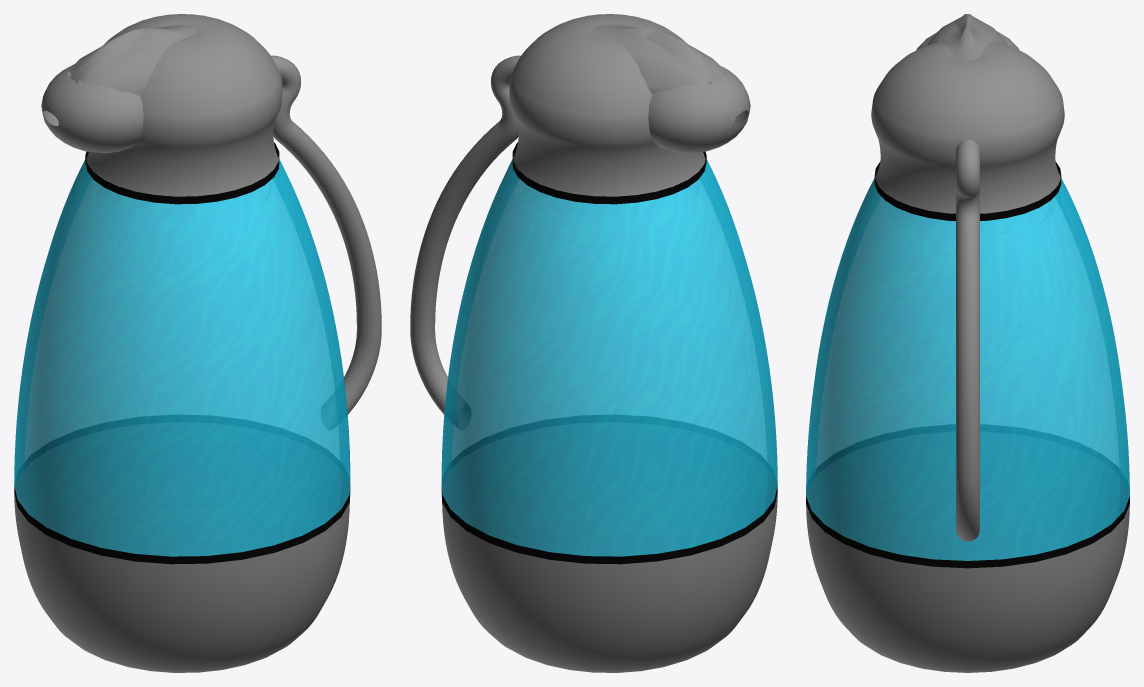
3 renders of one model, left to right at view 1: azimuth 30°, elevation 25°; view 2: azimuth 150°, elevation 25°; view 3: azimuth 270°, elevation 25°, orthographic. The views are drawn at different scales.
Parts seen in each view (by area): view 1: Component_5, Component_6, Component_4, Component_7, Component_2, Component_3, Composant_3, Composant_1, Composant_4; view 2: Component_5, Component_6, Component_4, Component_7, Component_2, Component_3, Composant_3, Composant_1, Composant_4; view 3: Component_5, Component_6, Component_7, Component_4, Component_2, Composant_3, Composant_1, Composant_4.
Part boxes in pixels (x1=…): Component_5: x1=14, y1=159, x2=350, y2=556; Component_6: x1=14, y1=422, x2=350, y2=672; Component_4: x1=86, y1=72, x2=282, y2=196; Component_7: x1=104, y1=14, x2=279, y2=116; Component_2: x1=271, y1=55, x2=381, y2=430; Component_3: x1=41, y1=64, x2=143, y2=153; Composant_3: x1=14, y1=415, x2=350, y2=564; Composant_1: x1=67, y1=24, x2=198, y2=96; Composant_4: x1=85, y1=142, x2=279, y2=204; Component_5: x1=441, y1=159, x2=777, y2=556; Component_6: x1=441, y1=422, x2=777, y2=672; Component_4: x1=509, y1=72, x2=705, y2=196; Component_7: x1=512, y1=14, x2=684, y2=116; Component_2: x1=410, y1=55, x2=520, y2=430; Component_3: x1=648, y1=66, x2=750, y2=153; Composant_3: x1=441, y1=415, x2=777, y2=564; Composant_1: x1=594, y1=24, x2=725, y2=94; Composant_4: x1=512, y1=142, x2=706, y2=204; Component_5: x1=806, y1=178, x2=1129, y2=560; Component_6: x1=806, y1=432, x2=1129, y2=672; Component_7: x1=874, y1=42, x2=1061, y2=137; Component_4: x1=871, y1=92, x2=1064, y2=213; Component_2: x1=956, y1=139, x2=979, y2=541; Composant_3: x1=806, y1=425, x2=1129, y2=568; Composant_1: x1=927, y1=14, x2=1007, y2=60; Composant_4: x1=874, y1=162, x2=1061, y2=220.
Size of the model in its own units: 111 by 94.69 by 190.
5 materials, 1 textured.
